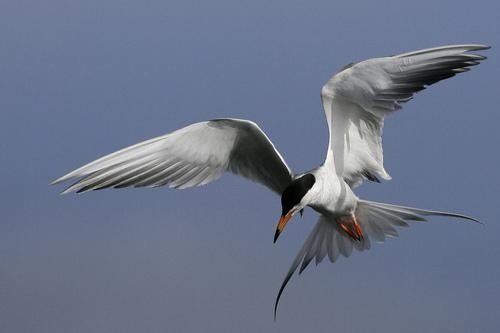bird: (39, 41, 492, 320)
